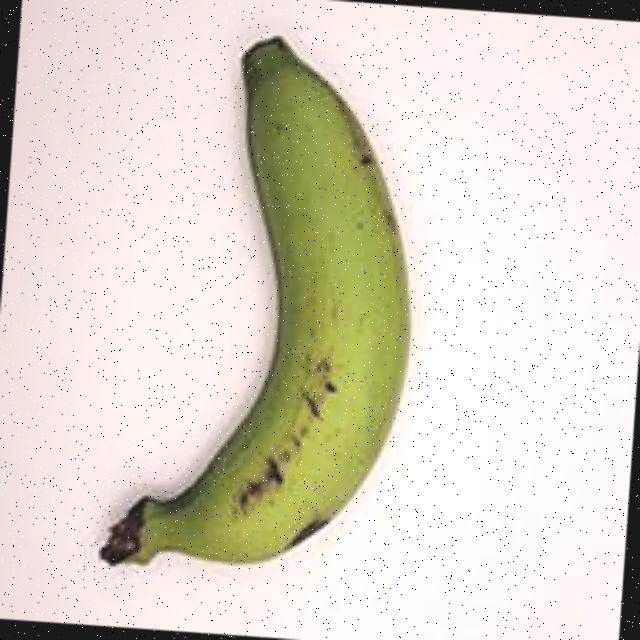Raw: (62, 1, 456, 610)
